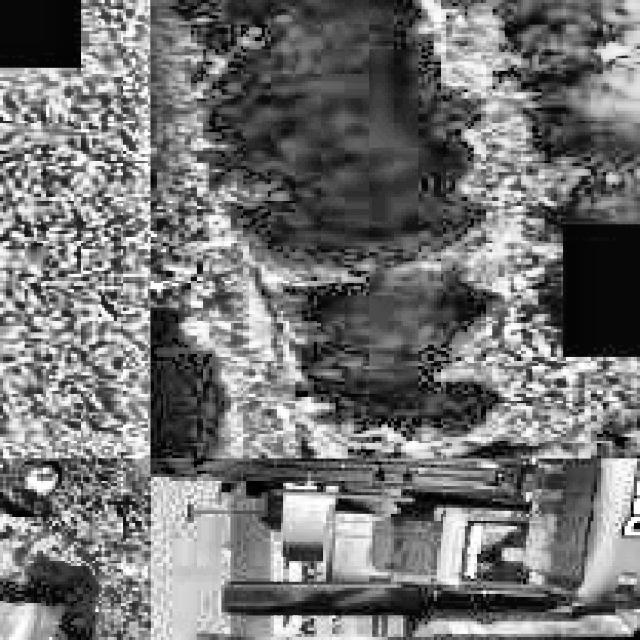excavator: (151, 458, 640, 610)
